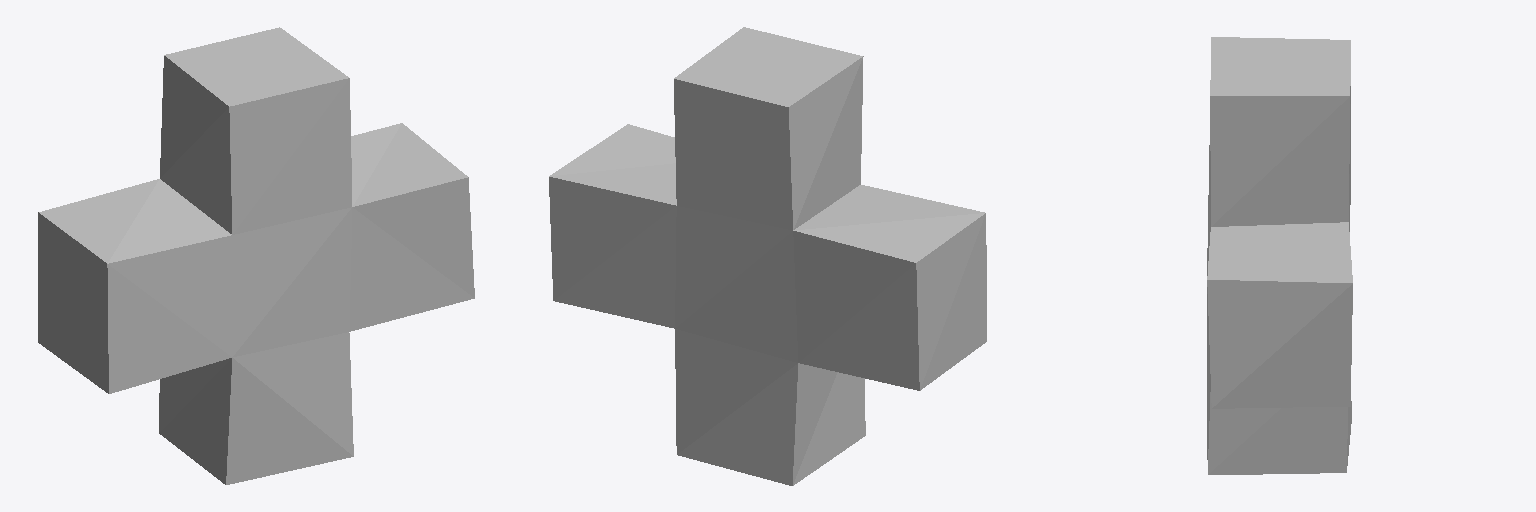
File: plussign.obj
The picture shows the model from 3 angles: view 1: azimuth 30°, elevation 25°; view 2: azimuth 150°, elevation 25°; view 3: azimuth 270°, elevation 25°; orthographic projection.
Visible parts, largest first — view 1: Cube.004_Cube.003; view 2: Cube.004_Cube.003; view 3: Cube.004_Cube.003.
Part boxes in pixels (x1,y1,x2,y2): Cube.004_Cube.003: (38, 27, 474, 484); Cube.004_Cube.003: (549, 27, 986, 485); Cube.004_Cube.003: (1207, 37, 1352, 474).
Bounding box in the file's own units: 3.09 × 3.02 × 1.06.